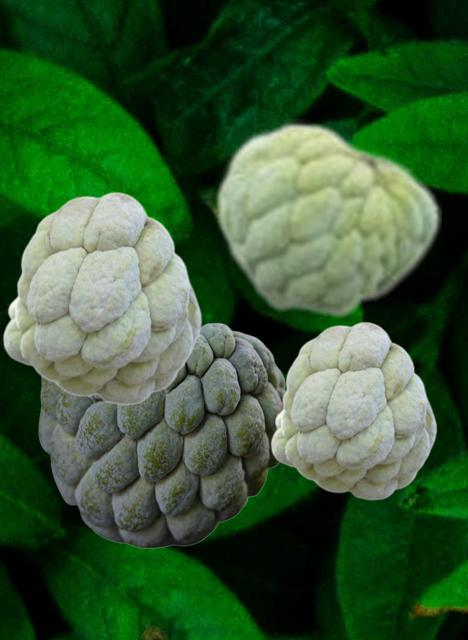atis: (38, 322, 285, 547), (213, 119, 440, 319), (2, 191, 201, 404), (270, 321, 436, 499)
